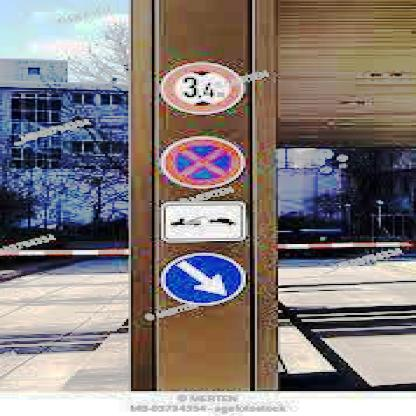No stopping: (157, 133, 254, 188)
